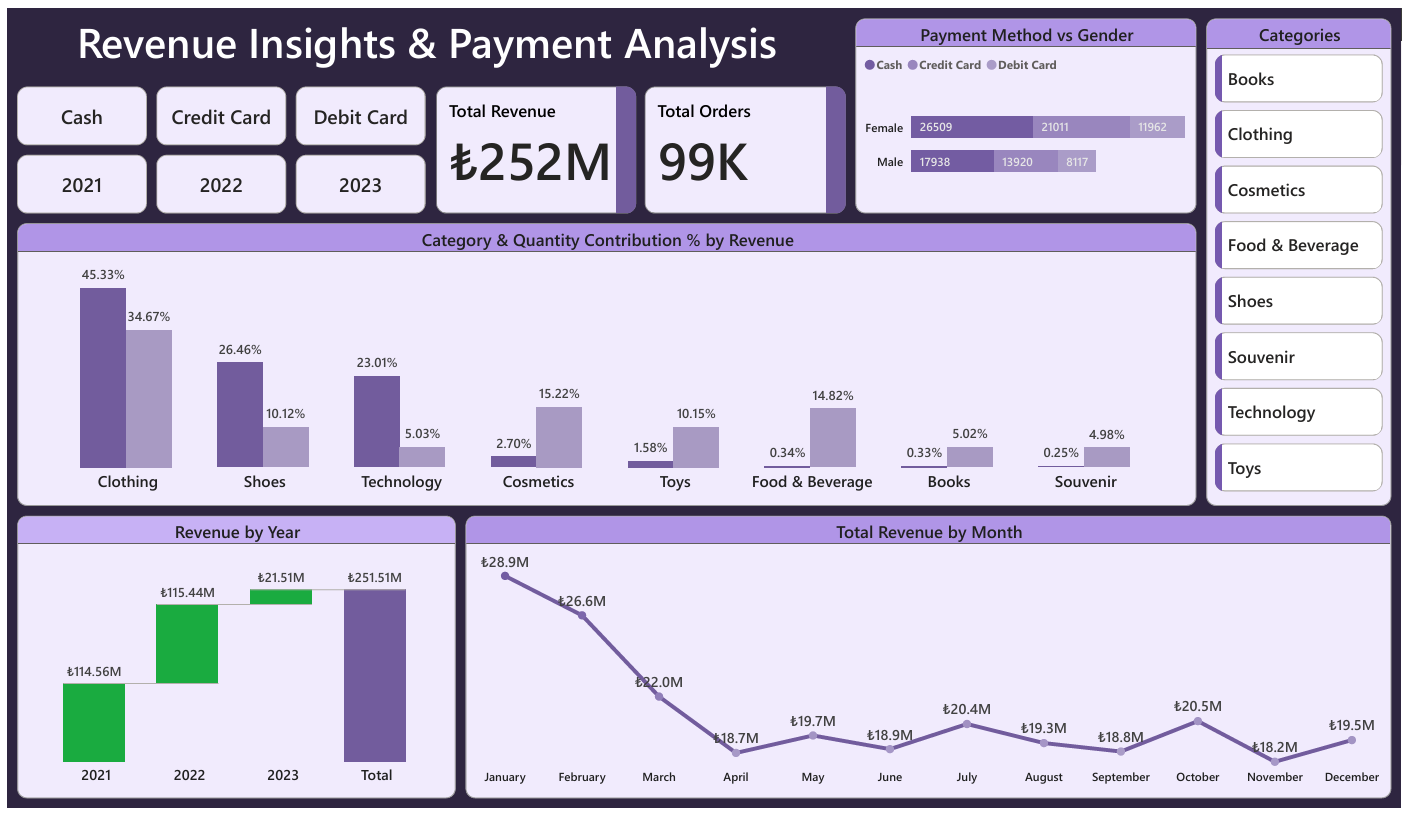

The dashboard page shown, as its layout file describes it:
{"tool":"powerbi","page":{"name":"Page 2","canvas":[1430,820],"ordinal":1},"visuals":[{"type":"clusteredColumnChart","title":"Category & Quantity Contribution % by Revenue","fields":{"Category":["customer_data_analysis.category"],"Y":["customer_data_analysis.% of Revenue","customer_data_analysis.% of Quantity"]},"box":[10,220,1210,290],"z":0},{"type":"advancedSlicerVisual","title":"Categories","fields":{"Values":["customer_data_analysis.category"]},"box":[1230,10,190,500],"z":1000},{"type":"lineChart","title":"Total Revenue by Month","fields":{"Category":["DateTabel.Date.Variation.Date Hierarchy.Month"],"Y":["customer_data_analysis.Total Revenue"]},"box":[470,520,950,290],"z":2000},{"type":"waterfallChart","title":"Revenue by Year","fields":{"Category":["DateTabel.Date.Variation.Date Hierarchy.Year"],"Y":["Sum(customer_data_analysis.Revenue)"]},"box":[10,520,450,290],"z":3000},{"type":"advancedSlicerVisual","fields":{"Values":["Year.Year"]},"box":[10,150,420,60],"z":4000},{"type":"barChart","title":"Payment Method vs Gender","fields":{"Category":["customer_data_analysis.gender"],"Y":["customer_data_analysis.Total Sales"],"Series":["customer_data_analysis.payment_method"]},"box":[870,10,350,200],"z":5000},{"type":"advancedSlicerVisual","fields":{"Values":["customer_data_analysis.payment_method"]},"box":[10,80,420,60],"z":6000},{"type":"textbox","box":[0,0,860,75.7],"z":7000},{"type":"cardVisual","title":"Average Company Rating","fields":{"Data":["customer_data_analysis.Total Revenue"]},"box":[440,80,205,130],"z":8000},{"type":"cardVisual","title":"Average Company Rating","fields":{"Data":["customer_data_analysis.Total Purchase"]},"box":[654.3,80,205.7,130],"z":9000}]}

Visuals, with their boxes in screenshot pixels (x1, y1, x2, y2), scaled from the page's 1430x820 canvas onto the 1409x816 screenshot:
"Category & Quantity Contribution % by Revenue" clusteredColumnChart: <bbox>10, 219, 1202, 508</bbox>
"Categories" advancedSlicerVisual: <bbox>1212, 10, 1399, 508</bbox>
"Total Revenue by Month" lineChart: <bbox>463, 517, 1399, 806</bbox>
"Revenue by Year" waterfallChart: <bbox>10, 517, 453, 806</bbox>
advancedSlicerVisual - Year.Year: <bbox>10, 149, 424, 209</bbox>
"Payment Method vs Gender" barChart: <bbox>857, 10, 1202, 209</bbox>
advancedSlicerVisual - customer_data_analysis.payment_method: <bbox>10, 80, 424, 139</bbox>
textbox: <bbox>0, 0, 847, 75</bbox>
"Average Company Rating" cardVisual: <bbox>434, 80, 636, 209</bbox>
"Average Company Rating" cardVisual: <bbox>645, 80, 847, 209</bbox>
